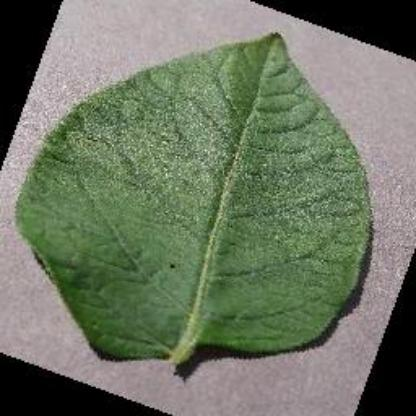Healthy-plant: (1, 21, 405, 387)
